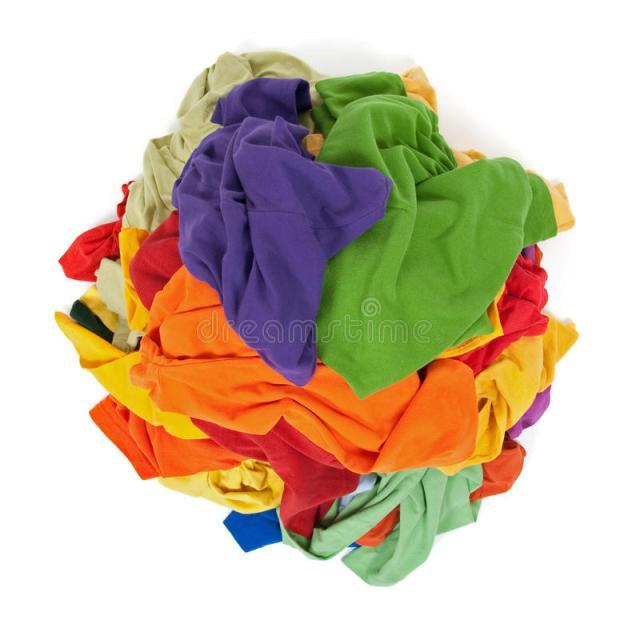clothes: (60, 47, 585, 574)
